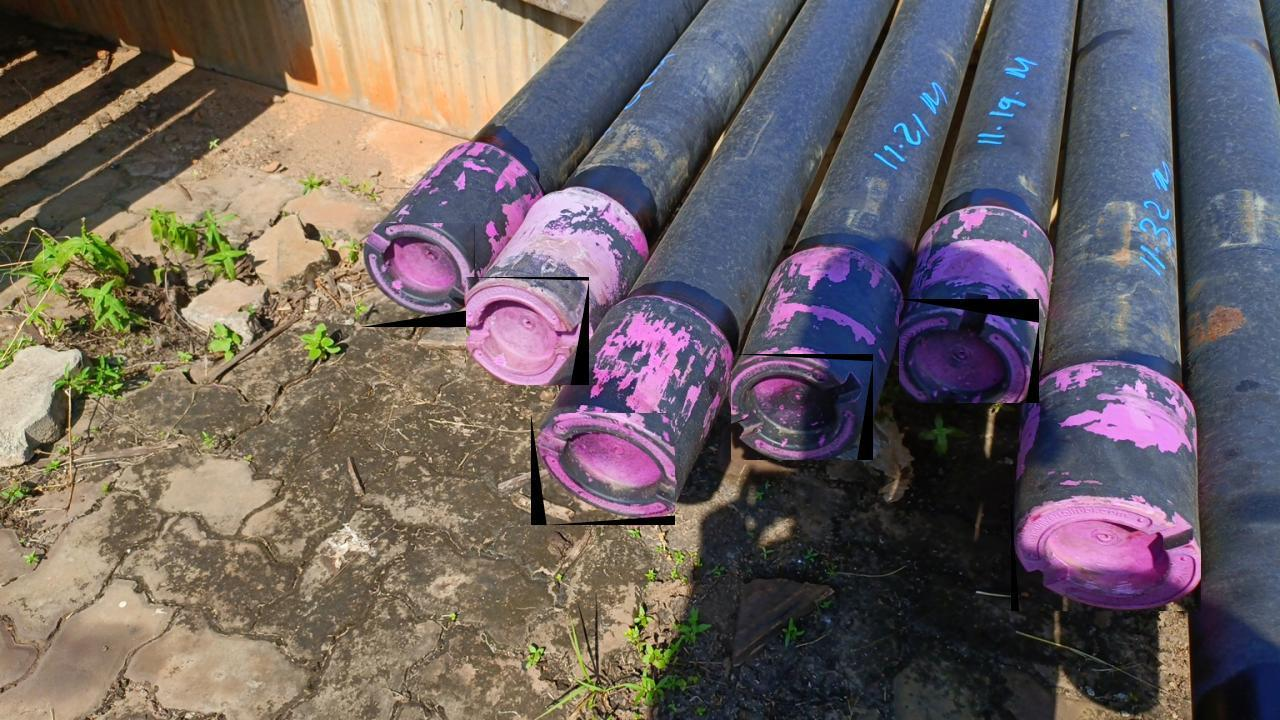pipe: (1011, 500, 1201, 611), (531, 413, 675, 525), (731, 354, 873, 460), (899, 299, 1039, 403), (466, 277, 589, 385), (361, 223, 475, 327)
